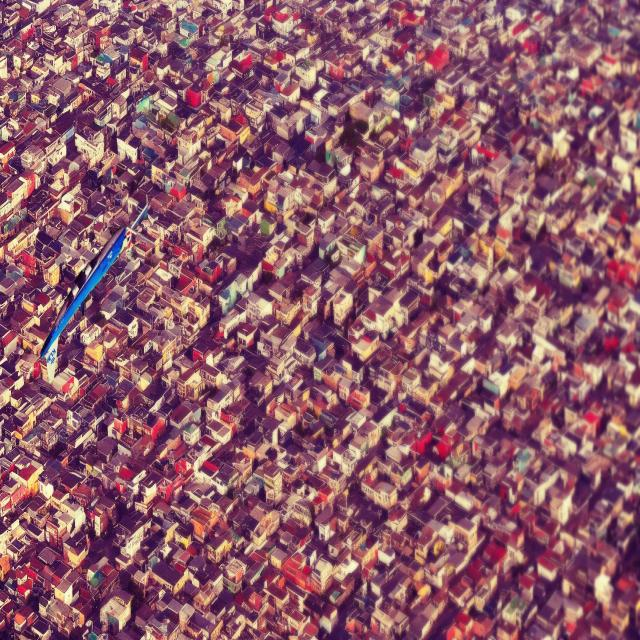airplane: (38, 199, 151, 383)
